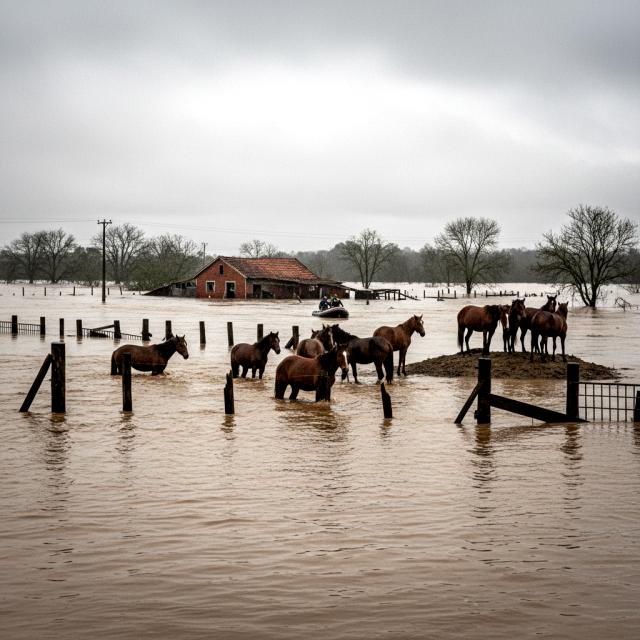civilian: (331, 294, 344, 310), (318, 296, 329, 311), (322, 298, 332, 310)
horse: (267, 347, 354, 414), (107, 328, 194, 384), (329, 326, 396, 386), (374, 313, 428, 375), (448, 300, 508, 352), (227, 327, 281, 378), (534, 300, 574, 355), (496, 297, 528, 354), (520, 290, 558, 332), (297, 324, 334, 357)
